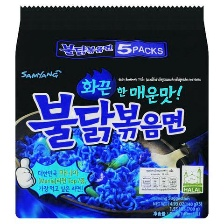snack: (8, 0, 215, 224)
